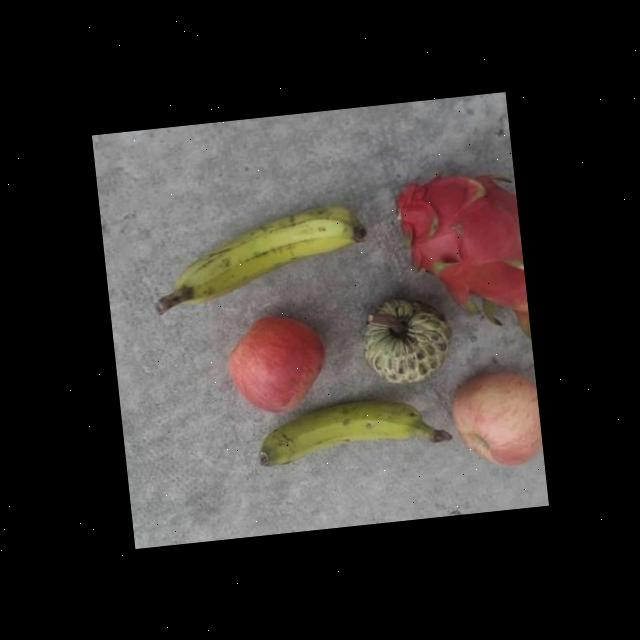Sakya fruit: (358, 292, 453, 388)
apple: (222, 311, 330, 417), (449, 369, 544, 472)
banana: (143, 204, 370, 318), (252, 390, 454, 470)
pitaya: (394, 168, 534, 384)
